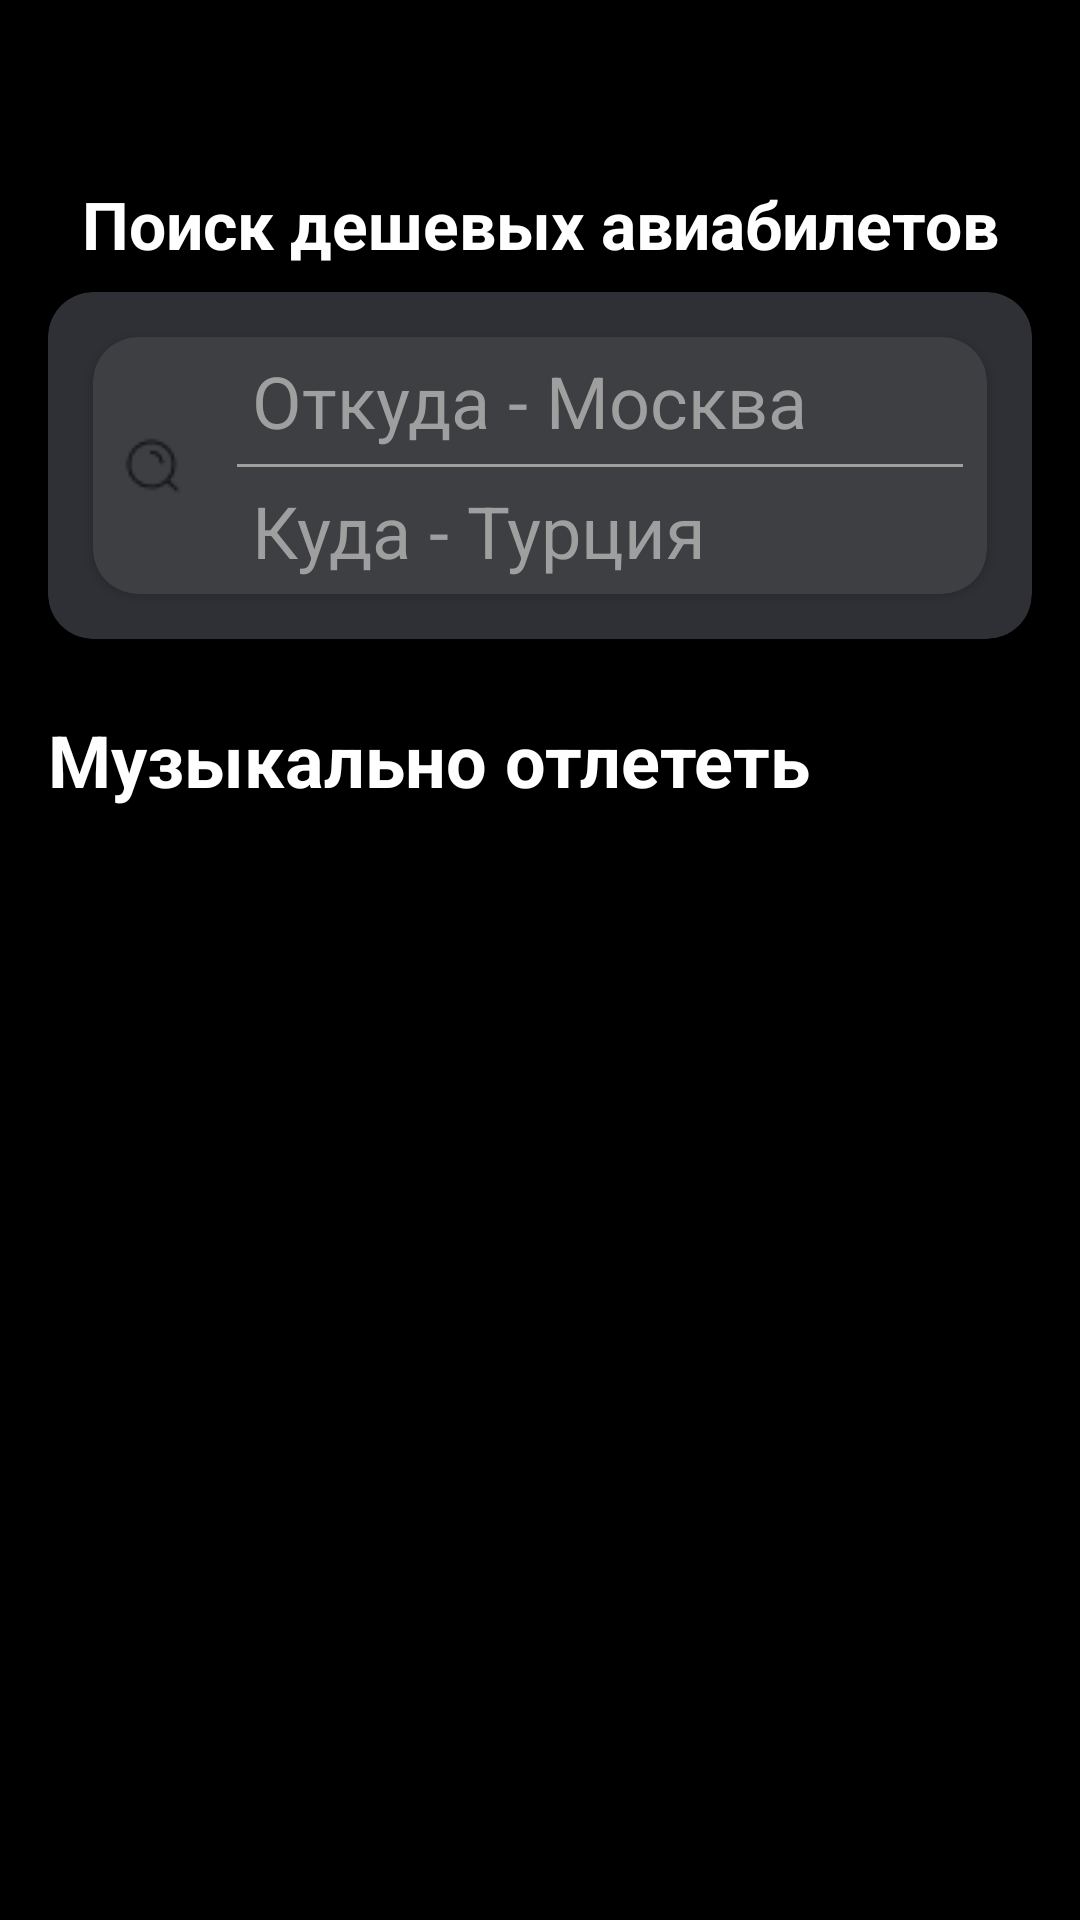

Icon bounding boxes for this 1080w x 1920h phone screenshot, format (x1, y1, x2, y2):
search: (128, 440, 177, 490)
